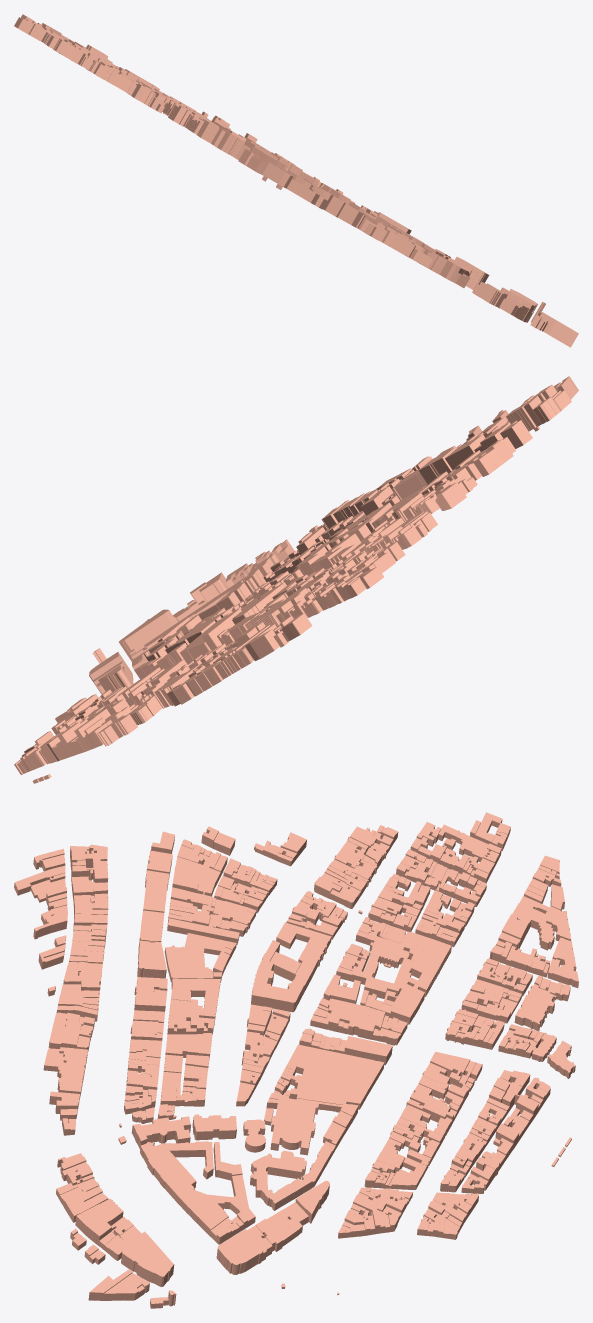
3 renders of one model, top to bottom at view 1: azimuth 30°, elevation 25°; view 2: azimuth 150°, elevation 25°; view 3: azimuth 270°, elevation 25°, orthographic. The views are drawn at different scales.
Size of the model in its own units: 543 by 391 by 652.
